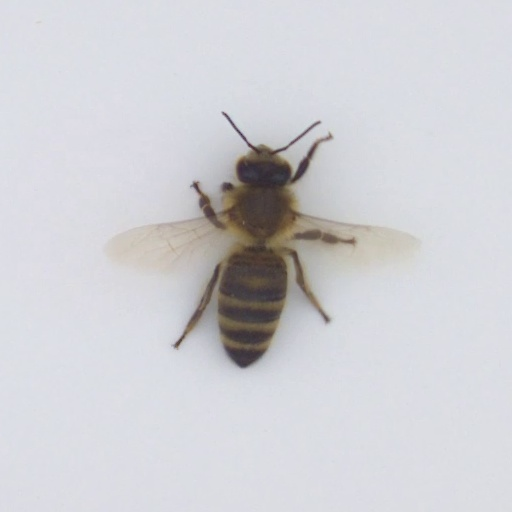Bee: (206, 137, 300, 378)
Thorax: (224, 185, 296, 245)
